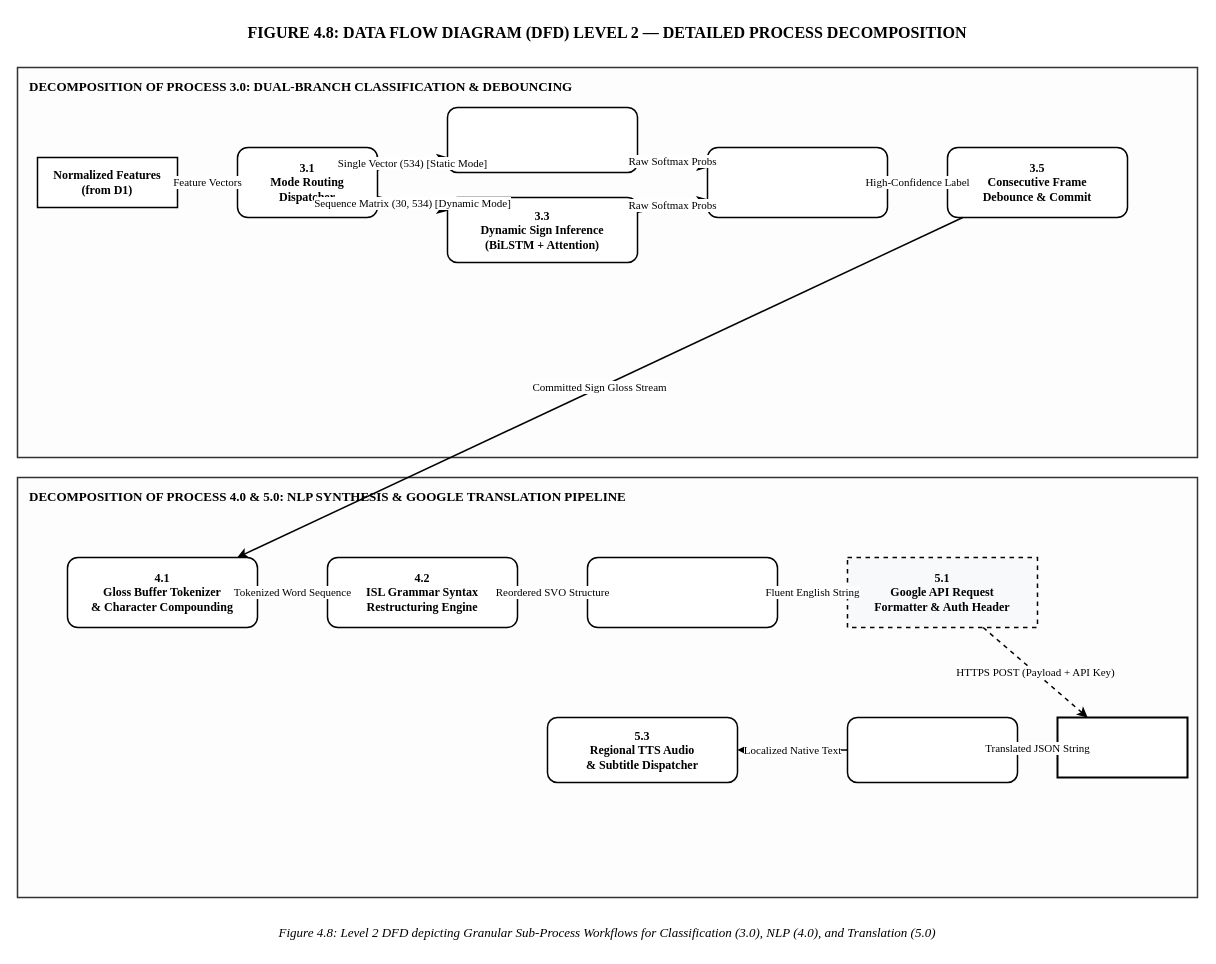
This 1216x964 diagram has some shape labels left out. Each missing label, with the centre of its shape:
"3.2 Static Sign Inference (Residual Dense MLP)" belongs at (542,139).
"3.4 Confidence Gate & Threshold Filter (>85%)" belongs at (797,182).
"4.3 Natural English Sentence Synthesizer" belongs at (682,592).
"5.2 Multi-Language JSON Response Parser" belongs at (932,749).
"GOOGLE CLOUD TRANSLATE NMT" belongs at (1122,747).
